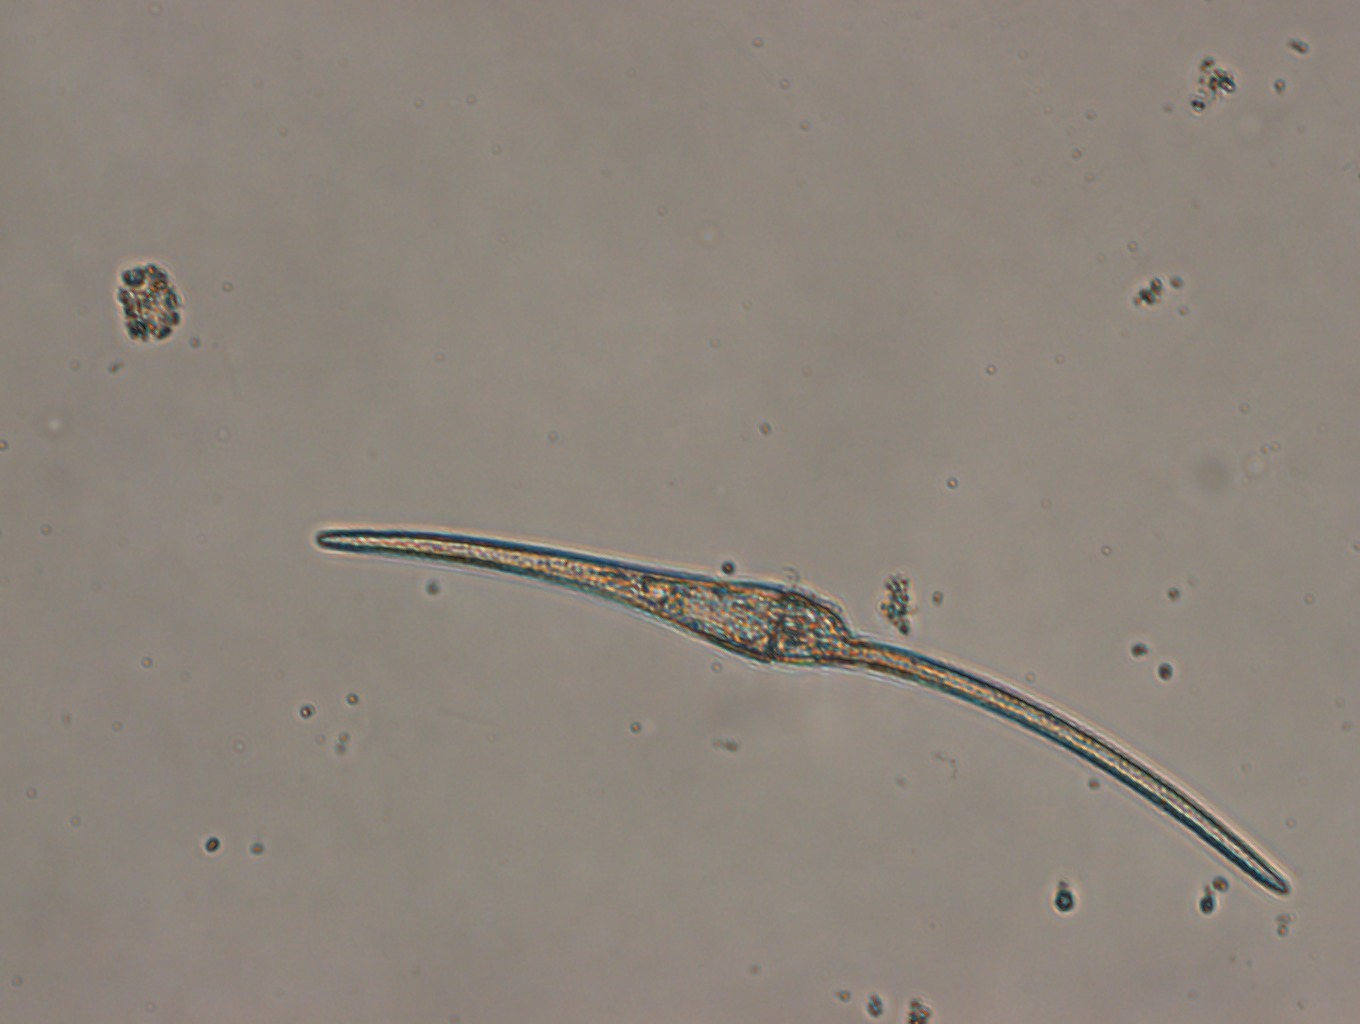ceratium fusus: (310, 523, 1299, 896)
